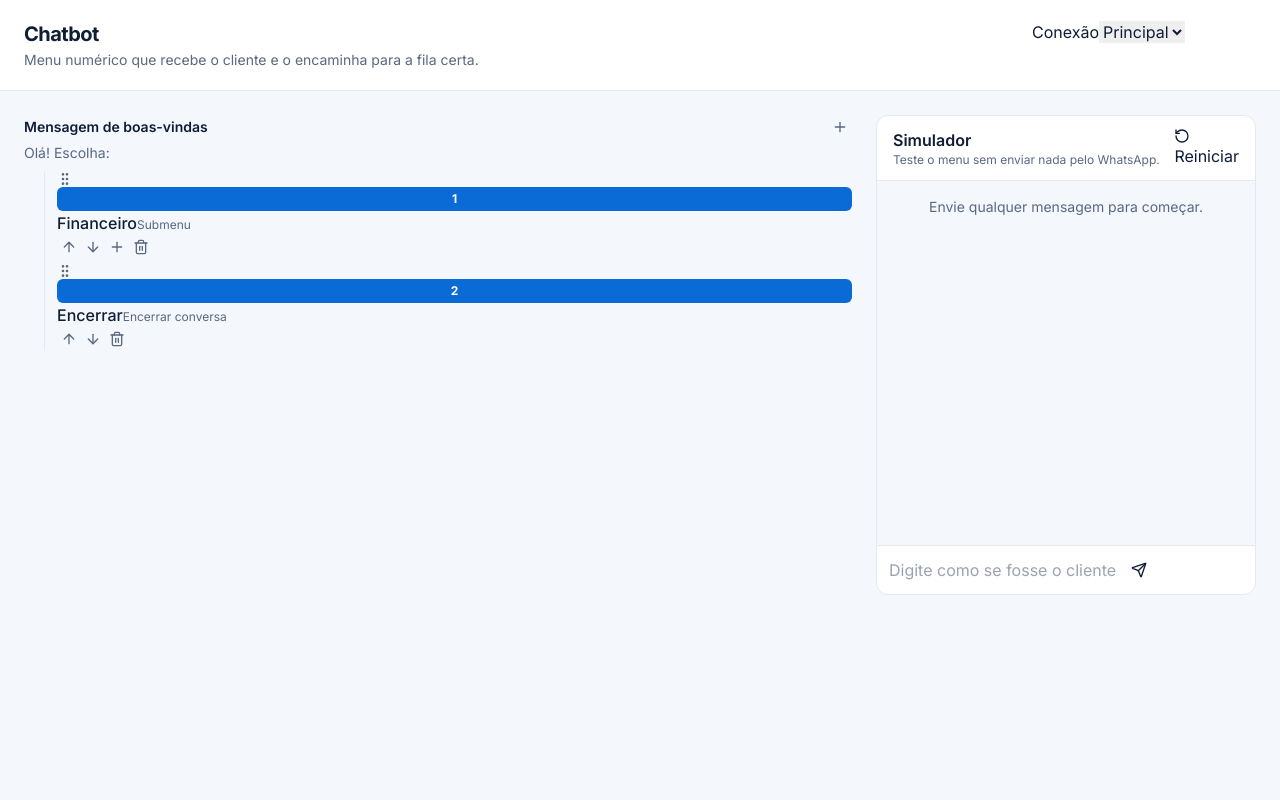
ChatbotPage › simulates a conversation
This screenshot has width=1280, height=800.
Type "oi" into the field named "Mensagem do cliente" at (1006, 570), box [889, 558, 1123, 582]
Then press Enter
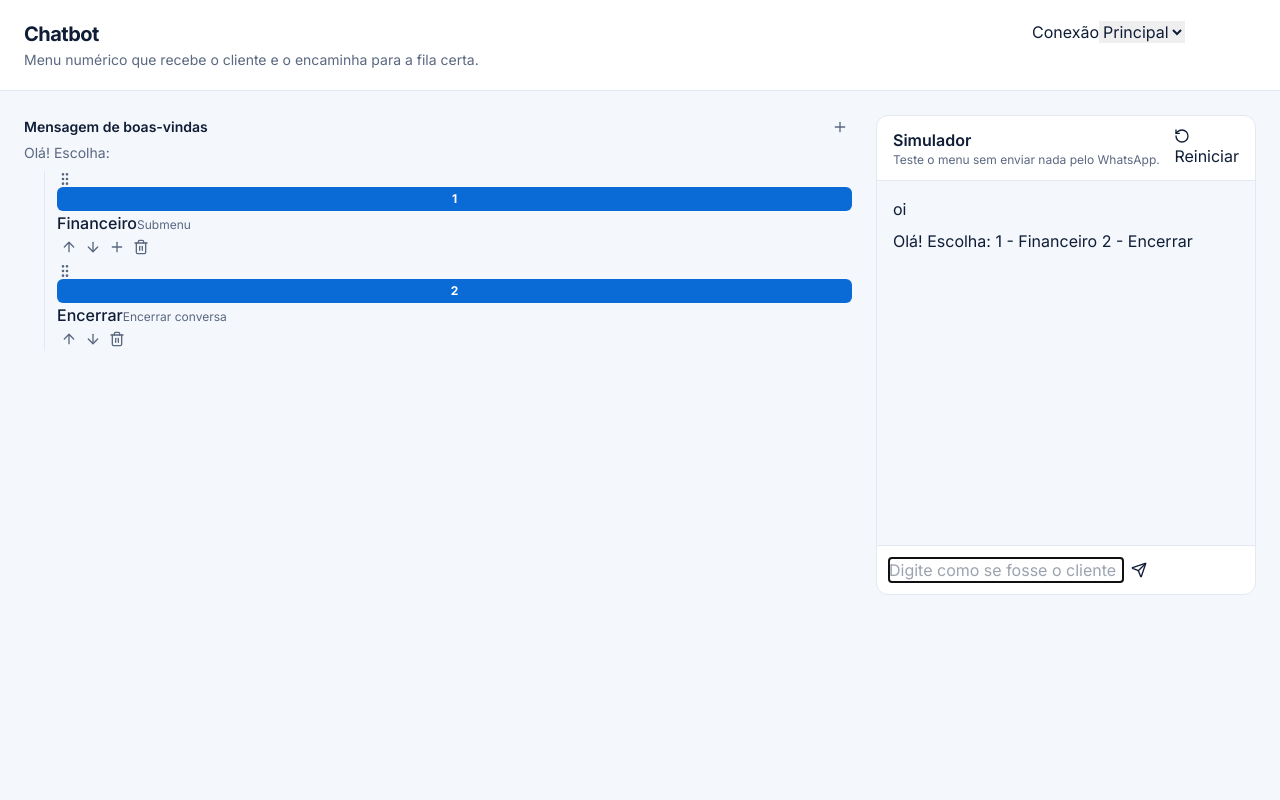
Expected: the text "Olá! Escolha: 1 - Financeiro 2 - Encerrar" is shown, [893, 229, 1239, 253]
Type "1" into the field named "Mensagem do cliente" at (1006, 570), box [889, 558, 1123, 582]
Then press Enter
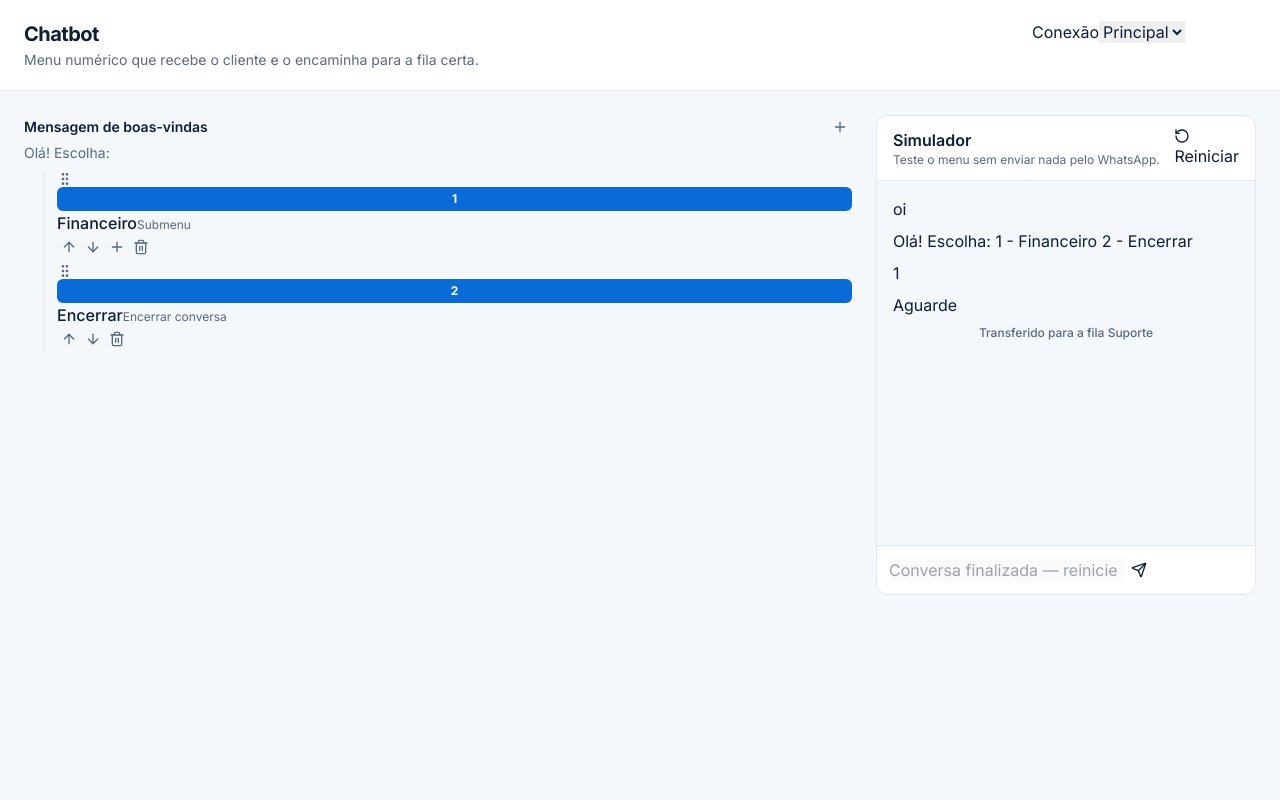
Expected: the text "Transferido para a fila Suporte" is shown, [979, 325, 1153, 340]
Expected: the field named "Mensagem do cliente" is disabled, [889, 558, 1123, 582]
Click the button "Reiniciar" at (1207, 148), box [1174, 128, 1239, 168]
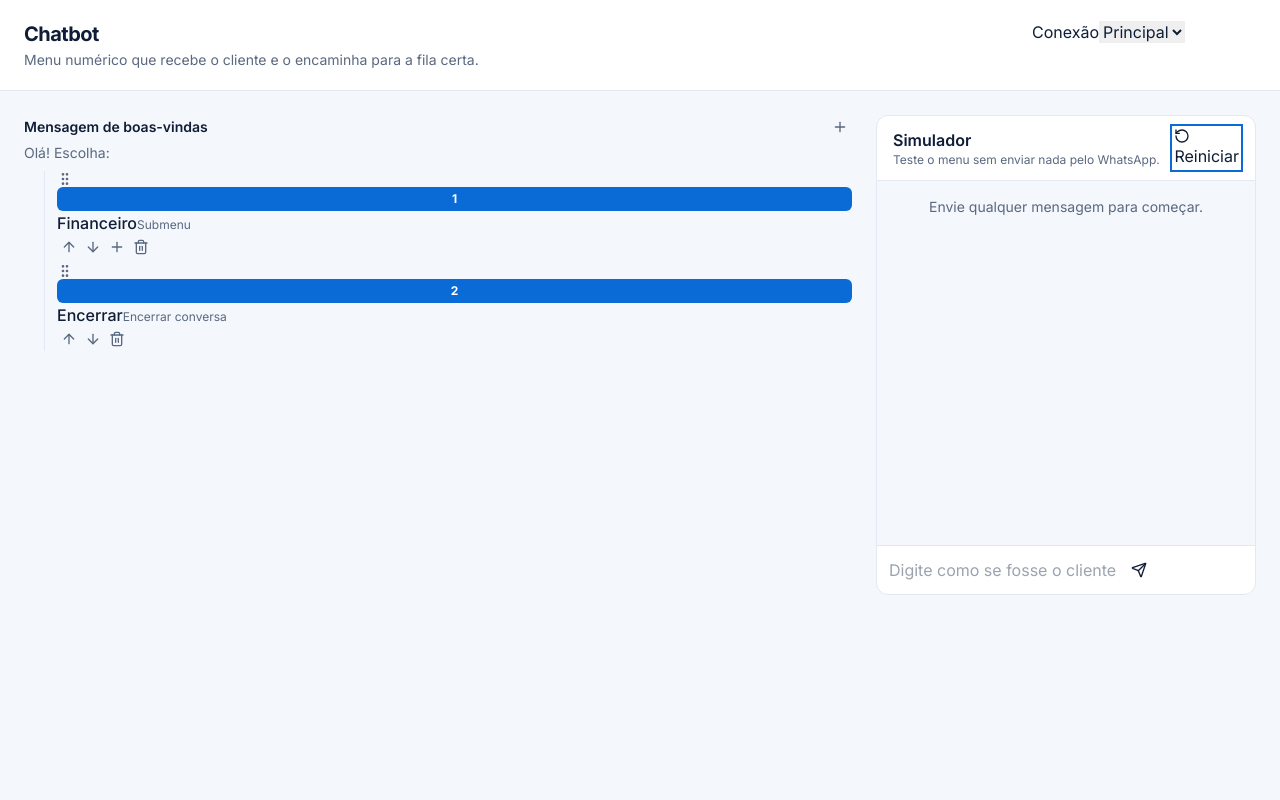
Expected: the text "Transferido para a fila Suporte" is gone
